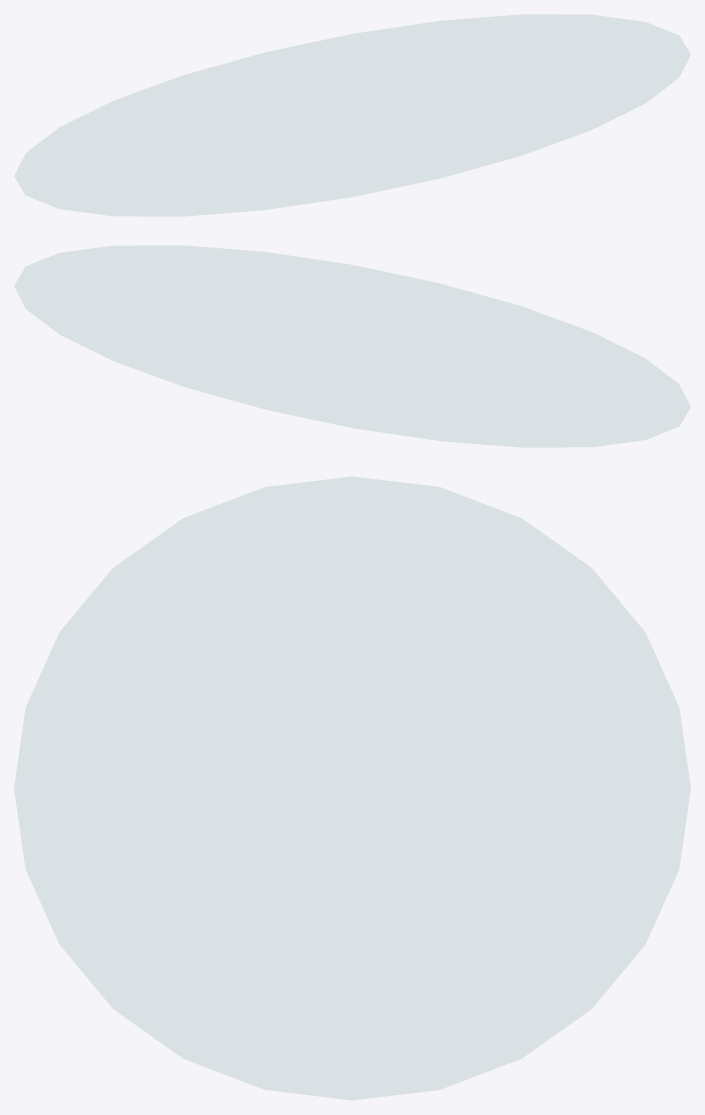
The model's file is sea_wake.glb.
3 renders of one model, top to bottom at view 1: azimuth 30°, elevation 25°; view 2: azimuth 150°, elevation 25°; view 3: azimuth 270°, elevation 25°, orthographic. The views are drawn at different scales.
Visible parts, largest first — view 1: sea_wake; view 2: sea_wake; view 3: sea_wake.
Part boxes in pixels (x1,y1,x2,y2): sea_wake: (14, 14, 690, 216); sea_wake: (14, 245, 690, 447); sea_wake: (14, 476, 690, 1100).
Size of the model in its own units: 0.24 by 0 by 0.11.
